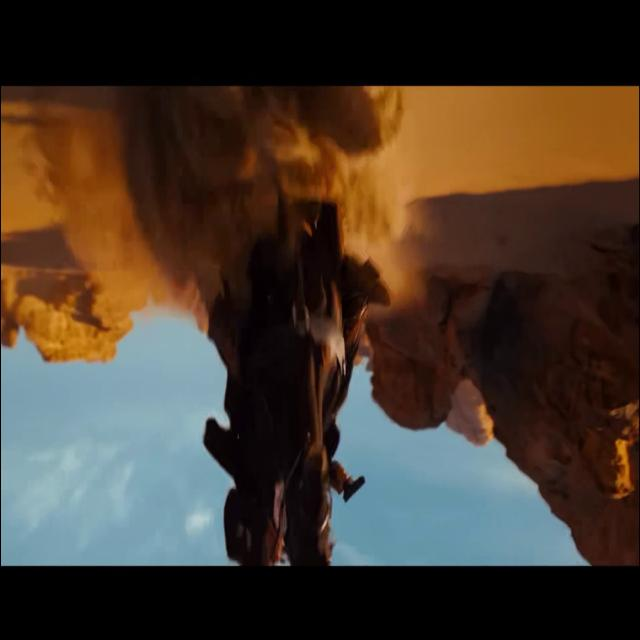weapons: (334, 454, 368, 522)
